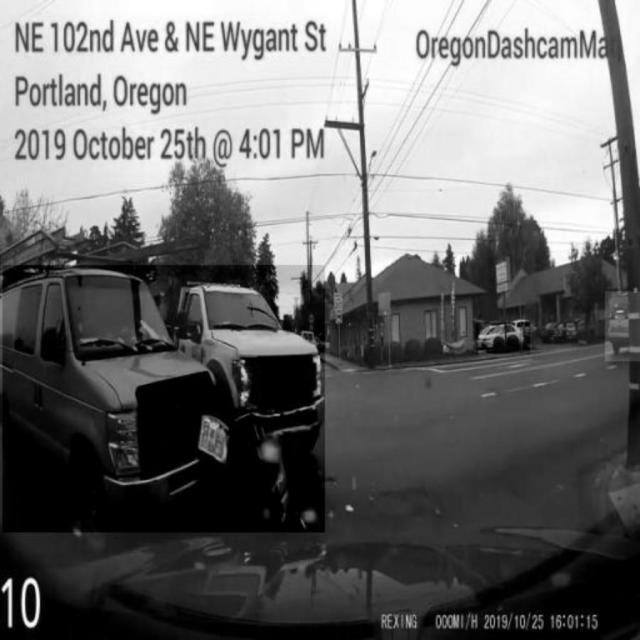accident: (3, 265, 325, 533)
vehicle: (605, 292, 640, 362), (477, 323, 531, 353)
